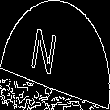N_S: (39, 25, 71, 85)
